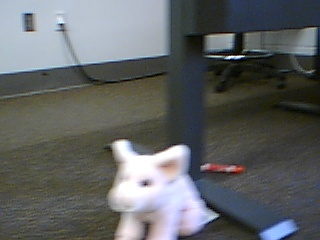piggy: (105, 137, 209, 240)
